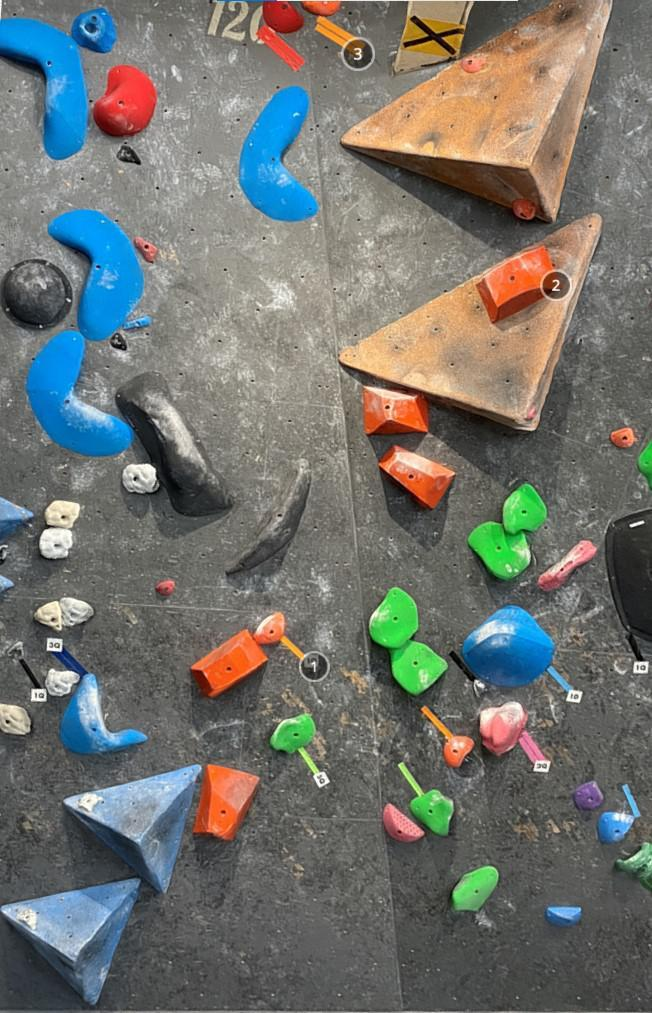hold: (340, 0, 613, 223), (338, 212, 603, 431), (63, 763, 202, 894), (0, 877, 141, 1005), (114, 372, 236, 518), (27, 329, 135, 456), (47, 209, 144, 340), (0, 17, 88, 159), (239, 85, 319, 221), (225, 457, 311, 573), (461, 605, 555, 688), (59, 672, 148, 754), (476, 244, 563, 323), (605, 508, 652, 643), (394, 0, 475, 73), (190, 629, 269, 699), (193, 763, 260, 842), (0, 259, 73, 330), (378, 444, 456, 510), (93, 64, 157, 137), (468, 521, 532, 580), (388, 639, 448, 696), (363, 386, 429, 435), (537, 539, 598, 591), (369, 586, 419, 649), (479, 700, 528, 755), (502, 482, 548, 534), (450, 864, 499, 912), (409, 788, 455, 837), (71, 7, 118, 52), (269, 713, 317, 754), (614, 841, 652, 892), (383, 802, 425, 842), (0, 496, 34, 541), (263, 1, 305, 34), (597, 810, 635, 843), (122, 463, 161, 494), (38, 527, 73, 559), (59, 597, 95, 628), (44, 500, 81, 529), (253, 612, 285, 645), (0, 702, 31, 735), (444, 735, 475, 768), (45, 668, 80, 696), (34, 599, 62, 633), (574, 780, 605, 810), (544, 906, 583, 927), (637, 438, 652, 491), (301, 1, 343, 17), (134, 236, 158, 262), (610, 427, 634, 449), (78, 793, 105, 812), (116, 145, 141, 165), (513, 199, 536, 220), (16, 909, 38, 930), (122, 315, 151, 329), (461, 58, 486, 73), (6, 640, 24, 659), (0, 574, 16, 595), (155, 580, 176, 596), (110, 332, 127, 351), (0, 543, 8, 566), (527, 406, 537, 420)
